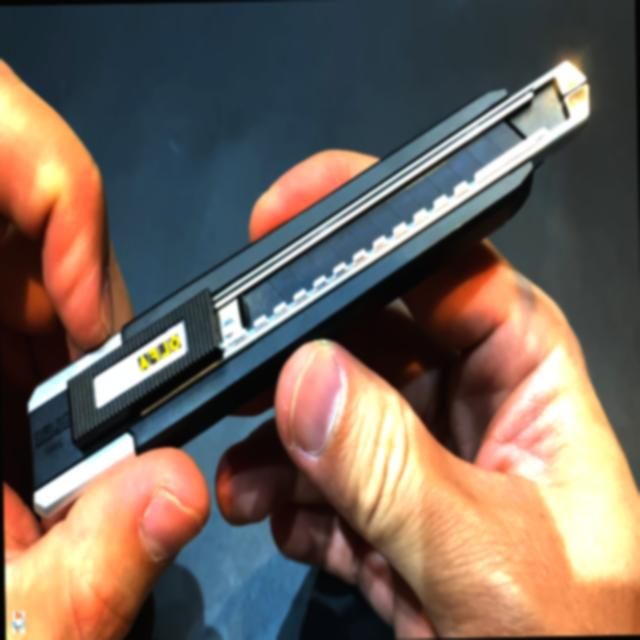cutter: (0, 0, 634, 575)
